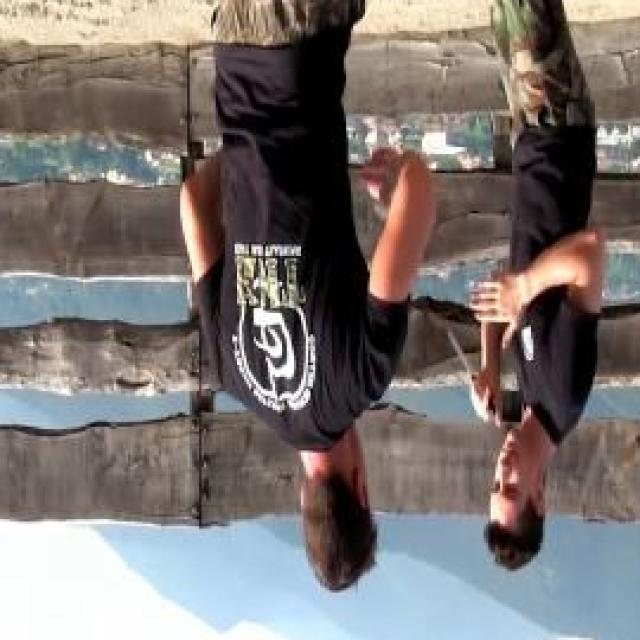knife: (441, 324, 506, 438)
